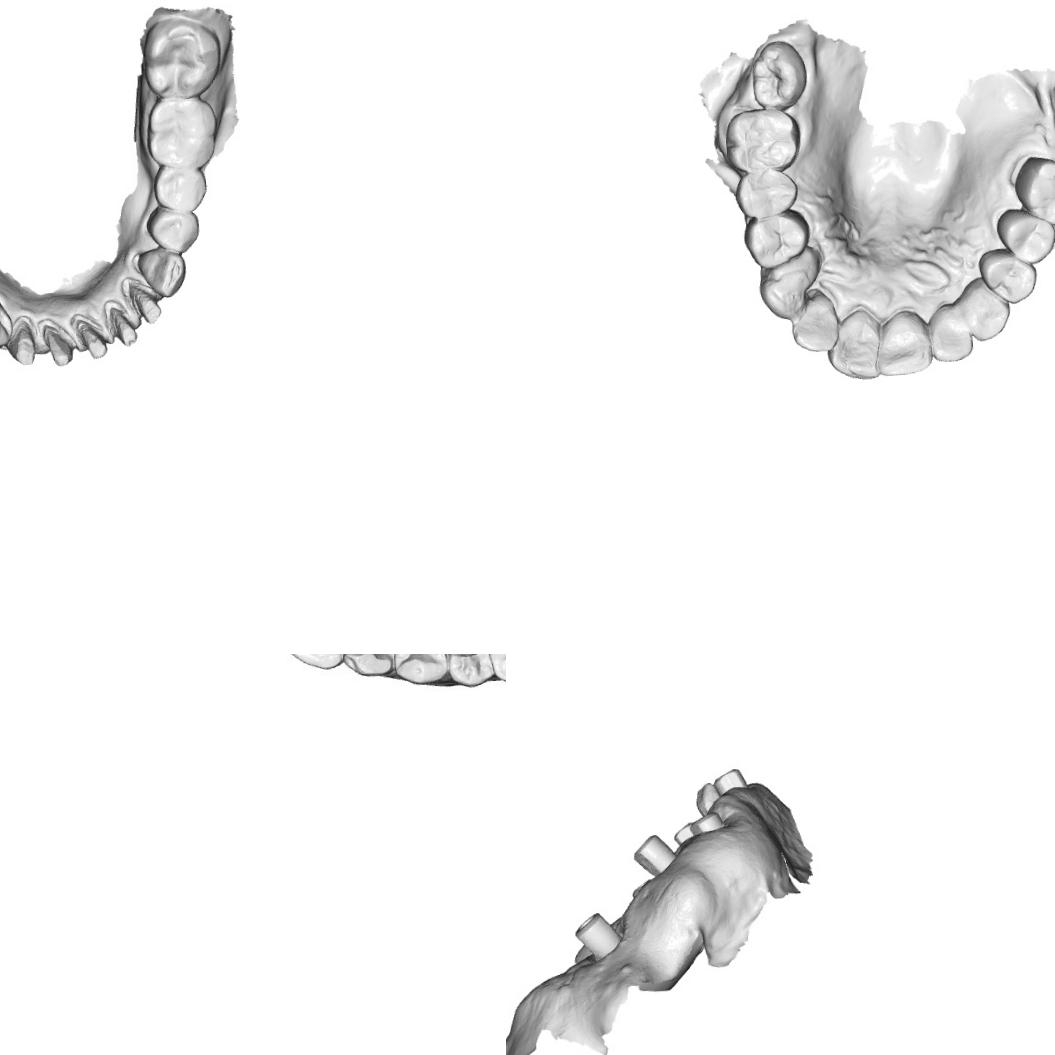canine: (756, 262, 814, 324), (960, 278, 1012, 343), (134, 244, 188, 298), (340, 654, 400, 680)
crown: (36, 315, 80, 368), (120, 274, 164, 326), (72, 310, 114, 361), (1, 314, 39, 368), (102, 296, 138, 348)
implant: (571, 908, 624, 963), (630, 830, 678, 876), (710, 766, 750, 798), (686, 809, 722, 835), (671, 818, 696, 844)
incisor: (824, 306, 882, 384), (872, 306, 933, 378), (924, 302, 975, 364), (790, 294, 840, 355), (282, 654, 356, 676)
molar: (138, 13, 224, 99), (142, 92, 220, 171), (721, 104, 803, 176), (748, 36, 810, 112), (1010, 151, 1055, 230)
premolar: (740, 208, 812, 272), (975, 245, 1040, 307), (993, 204, 1055, 266), (730, 168, 800, 218), (144, 201, 202, 255), (151, 161, 208, 214), (388, 654, 451, 688), (442, 654, 494, 691), (0, 292, 15, 350)
